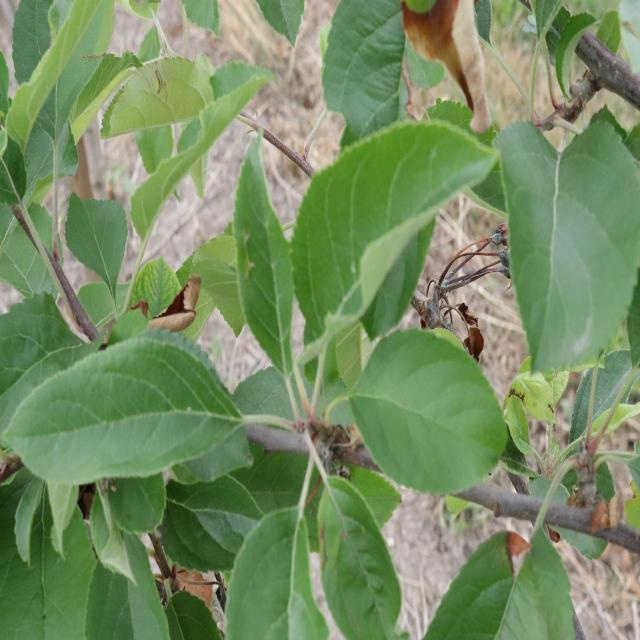-FireBlight-: (398, 0, 490, 127), (423, 274, 487, 375), (153, 255, 210, 333), (582, 486, 628, 535), (502, 525, 532, 575)
